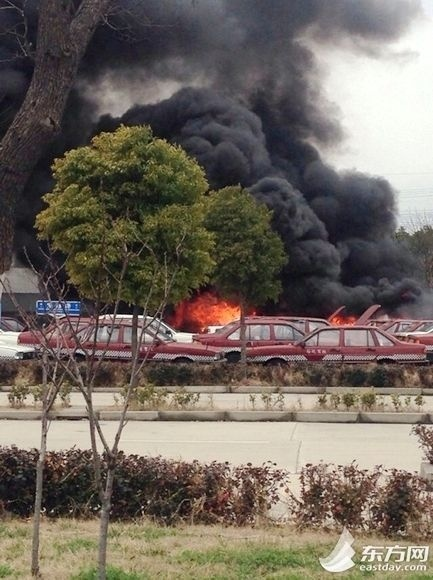fire: (171, 291, 250, 330), (326, 307, 357, 327)
